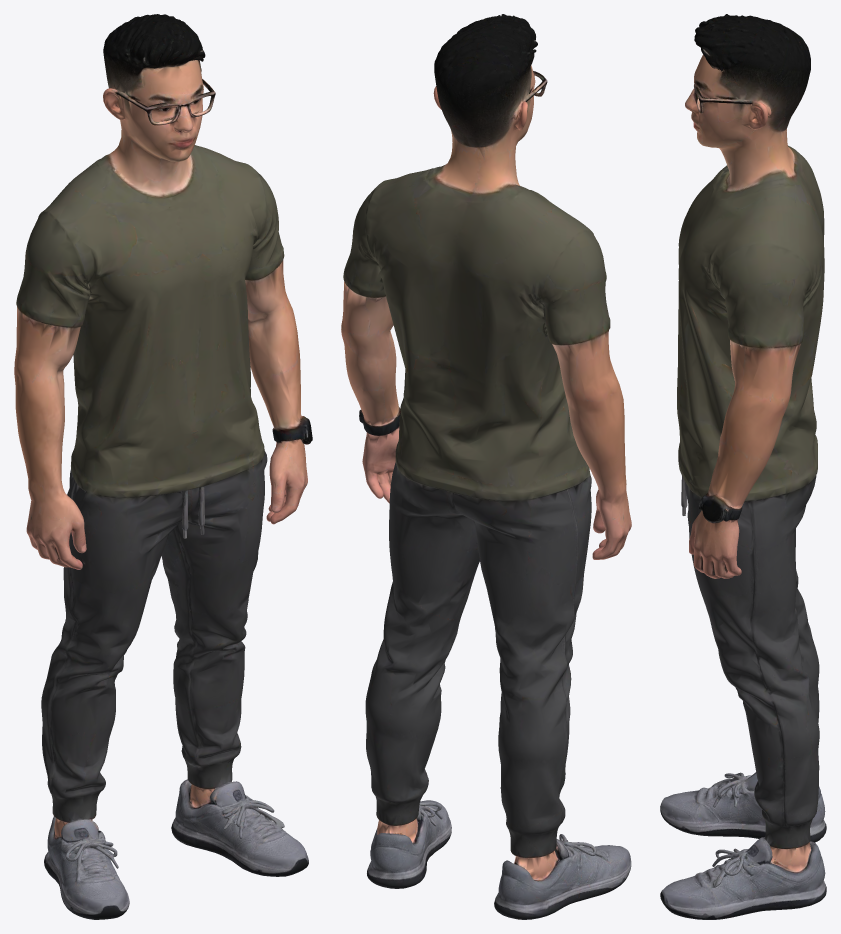
Rendered from kai.glb.
3 views of the same model, side by side, from view 1: azimuth 30°, elevation 25°; view 2: azimuth 150°, elevation 25°; view 3: azimuth 270°, elevation 25° (orthographic).
Size of the model in its own units: 0.6421 by 1.9 by 0.3394.
1 material, 1 textured.
